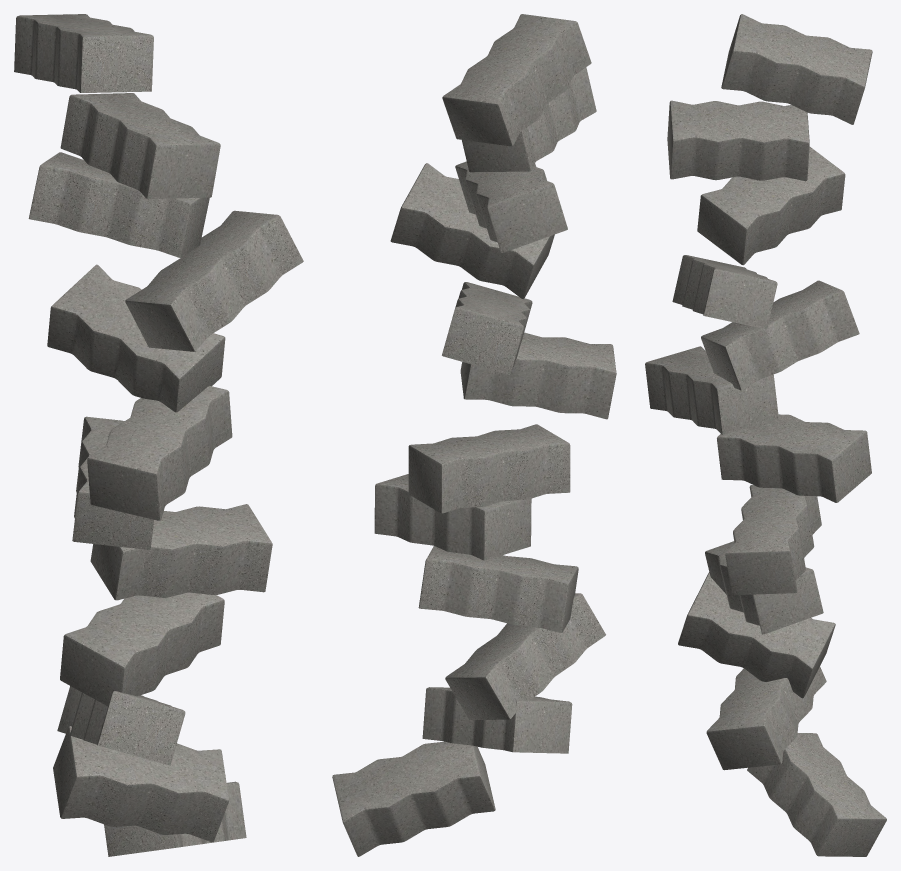
Rendered from PAV-BLQ-001_anim.glb.
3 views of the same model, side by side, from view 1: azimuth 30°, elevation 25°; view 2: azimuth 150°, elevation 25°; view 3: azimuth 270°, elevation 25° (orthographic). The views are drawn at different scales.
Visible parts, largest first — view 1: PAV-BLQ-001_anim8, PAV-BLQ-001_anim1, PAV-BLQ-001_anim3, PAV-BLQ-001_anim4, PAV-BLQ-001_anim7, PAV-BLQ-001_anim6, PAV-BLQ-001_anim10, PAV-BLQ-001_anim9, PAV-BLQ-001_anim11, PAV-BLQ-001_anim2, PAV-BLQ-001_anim5, PAV-BLQ-001_anim0; view 2: PAV-BLQ-001_anim0, PAV-BLQ-001_anim11, PAV-BLQ-001_anim5, PAV-BLQ-001_anim3, PAV-BLQ-001_anim2, PAV-BLQ-001_anim8, PAV-BLQ-001_anim6, PAV-BLQ-001_anim4, PAV-BLQ-001_anim1, PAV-BLQ-001_anim9, PAV-BLQ-001_anim7, PAV-BLQ-001_anim10; view 3: PAV-BLQ-001_anim10, PAV-BLQ-001_anim11, PAV-BLQ-001_anim5, PAV-BLQ-001_anim0, PAV-BLQ-001_anim9, PAV-BLQ-001_anim7, PAV-BLQ-001_anim2, PAV-BLQ-001_anim4, PAV-BLQ-001_anim6, PAV-BLQ-001_anim1, PAV-BLQ-001_anim8, PAV-BLQ-001_anim3.
Part boxes in pixels (x1=…): PAV-BLQ-001_anim8: x1=125, y1=210, x2=303, y2=351; PAV-BLQ-001_anim1: x1=53, y1=726, x2=228, y2=842; PAV-BLQ-001_anim3: x1=60, y1=592, x2=224, y2=706; PAV-BLQ-001_anim4: x1=90, y1=504, x2=272, y2=600; PAV-BLQ-001_anim7: x1=47, y1=264, x2=225, y2=412; PAV-BLQ-001_anim6: x1=87, y1=386, x2=232, y2=520; PAV-BLQ-001_anim10: x1=60, y1=93, x2=220, y2=199; PAV-BLQ-001_anim9: x1=28, y1=152, x2=209, y2=257; PAV-BLQ-001_anim11: x1=14, y1=14, x2=153, y2=92; PAV-BLQ-001_anim2: x1=57, y1=686, x2=185, y2=765; PAV-BLQ-001_anim5: x1=72, y1=416, x2=153, y2=549; PAV-BLQ-001_anim0: x1=104, y1=781, x2=246, y2=856; PAV-BLQ-001_anim0: x1=332, y1=741, x2=495, y2=856; PAV-BLQ-001_anim11: x1=442, y1=14, x2=591, y2=146; PAV-BLQ-001_anim5: x1=408, y1=424, x2=570, y2=513; PAV-BLQ-001_anim3: x1=418, y1=546, x2=578, y2=632; PAV-BLQ-001_anim2: x1=445, y1=593, x2=605, y2=719; PAV-BLQ-001_anim8: x1=390, y1=163, x2=554, y2=298; PAV-BLQ-001_anim6: x1=460, y1=332, x2=616, y2=419; PAV-BLQ-001_anim4: x1=374, y1=474, x2=531, y2=560; PAV-BLQ-001_anim1: x1=422, y1=687, x2=572, y2=753; PAV-BLQ-001_anim9: x1=455, y1=161, x2=567, y2=253; PAV-BLQ-001_anim7: x1=442, y1=282, x2=532, y2=375; PAV-BLQ-001_anim10: x1=462, y1=67, x2=596, y2=172; PAV-BLQ-001_anim10: x1=667, y1=100, x2=809, y2=181; PAV-BLQ-001_anim11: x1=721, y1=14, x2=872, y2=124; PAV-BLQ-001_anim5: x1=717, y1=414, x2=871, y2=502; PAV-BLQ-001_anim0: x1=747, y1=733, x2=886, y2=856; PAV-BLQ-001_anim9: x1=697, y1=147, x2=845, y2=265; PAV-BLQ-001_anim7: x1=701, y1=280, x2=859, y2=390; PAV-BLQ-001_anim2: x1=678, y1=572, x2=835, y2=698; PAV-BLQ-001_anim4: x1=725, y1=485, x2=821, y2=595; PAV-BLQ-001_anim6: x1=645, y1=346, x2=778, y2=434; PAV-BLQ-001_anim1: x1=706, y1=667, x2=826, y2=770; PAV-BLQ-001_anim8: x1=672, y1=255, x2=777, y2=329; PAV-BLQ-001_anim3: x1=705, y1=541, x2=823, y2=634.
Size of the model in its own units: 0.3782 by 1.39 by 0.3954.
1 material, 1 textured.
